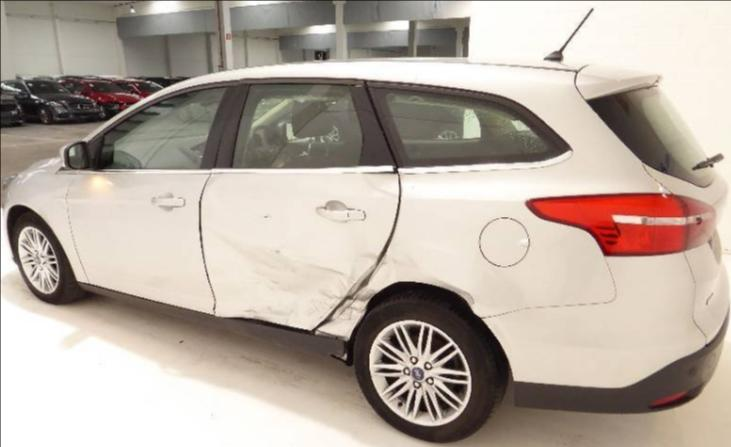Broken part: (196, 77, 405, 333)
Dent: (240, 223, 383, 330), (318, 246, 479, 339), (283, 268, 352, 307), (204, 228, 256, 261), (350, 176, 397, 206), (255, 209, 274, 224)
Missing part: (79, 283, 351, 365)
Scratch: (293, 258, 349, 275), (264, 274, 285, 287), (264, 246, 288, 257), (284, 307, 297, 324), (242, 307, 260, 314), (265, 302, 272, 317), (260, 215, 269, 219)
